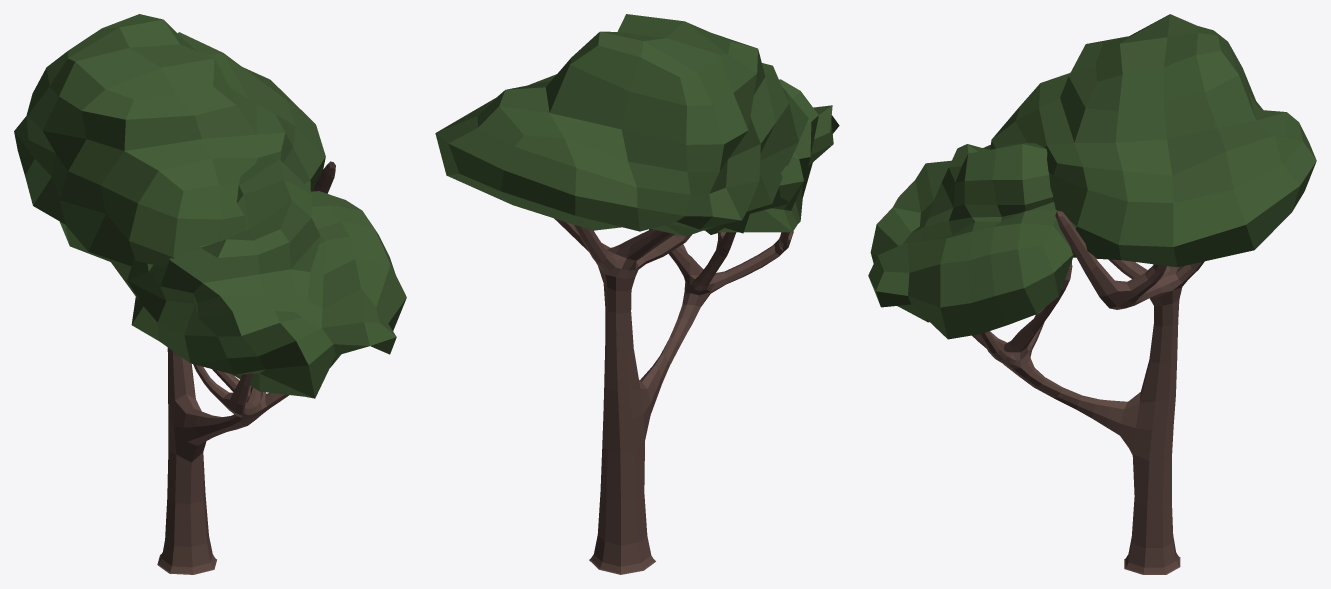
Rendered from simple.001.fbx.
The picture shows the model from 3 angles, left to right: view 1: azimuth 30°, elevation 25°; view 2: azimuth 150°, elevation 25°; view 3: azimuth 270°, elevation 25°; orthographic projection. The views are drawn at different scales.
Parts seen in each view (by area): view 1: simple.001; view 2: simple.001; view 3: simple.001.
Boxes of the visible parts, left/top/right/bottom form: simple.001: left=14, top=14, right=406, bottom=574; simple.001: left=435, top=14, right=839, bottom=574; simple.001: left=868, top=14, right=1316, bottom=574.
Size of the model in its own units: 1.66 by 3.06 by 2.44.
